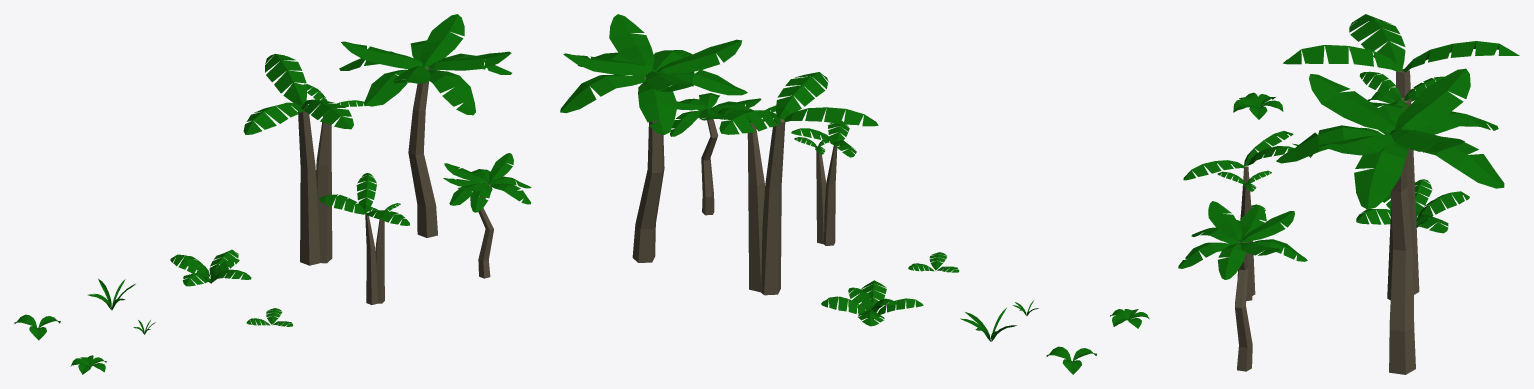
File: Trees-bush.fbx
The picture shows the model from 3 angles, left to right: view 1: azimuth 30°, elevation 25°; view 2: azimuth 150°, elevation 25°; view 3: azimuth 270°, elevation 25°; orthographic projection. The views are drawn at different scales.
Visible parts, largest first — view 1: Tree2, Tree1, Tree2-1, Tree1-1, Bush-1, Bush-3, Bush-1-1; view 2: Tree2, Tree1, Tree1-1, Tree2-1, Bush-1, Bush-3, Bush-1-1; view 3: Tree2, Tree1, Tree2-1, Tree1-1, Bush-1, Bush-3-1.
Boxes of the visible parts, box(x1,y1,x2,y2) form: Tree2: box(339, 14, 511, 237); Tree1: box(243, 54, 367, 265); Tree2-1: box(443, 153, 531, 278); Tree1-1: box(319, 173, 409, 304); Bush-1: box(170, 249, 251, 286); Bush-3: box(14, 314, 60, 340); Bush-1-1: box(246, 308, 293, 326); Tree2: box(560, 14, 747, 262); Tree1: box(718, 72, 878, 295); Tree1-1: box(791, 121, 856, 245); Tree2-1: box(659, 93, 764, 215); Bush-1: box(821, 280, 923, 326); Bush-3: box(1046, 346, 1096, 374); Bush-1-1: box(908, 252, 959, 272); Tree2: box(1276, 68, 1504, 374); Tree1: box(1283, 14, 1519, 300); Tree2-1: box(1178, 201, 1307, 371); Tree1-1: box(1183, 131, 1294, 300); Bush-1: box(1356, 179, 1469, 233); Bush-3-1: box(1233, 92, 1283, 119).
Size of the model in its own units: 22.97 by 8.77 by 10.44.
